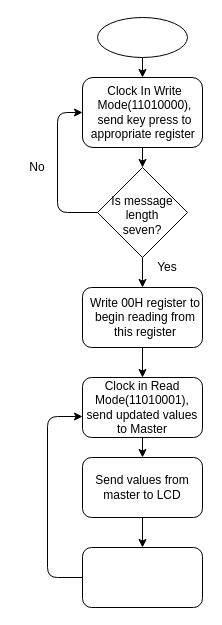
This 222x625 diagram has some shape labels left out. Each missing label, with the centre of its shape:
"Convert hex data values into correct ASCII values" goes at pixel 142 577.
"Start" goes at pixel 142 37.
